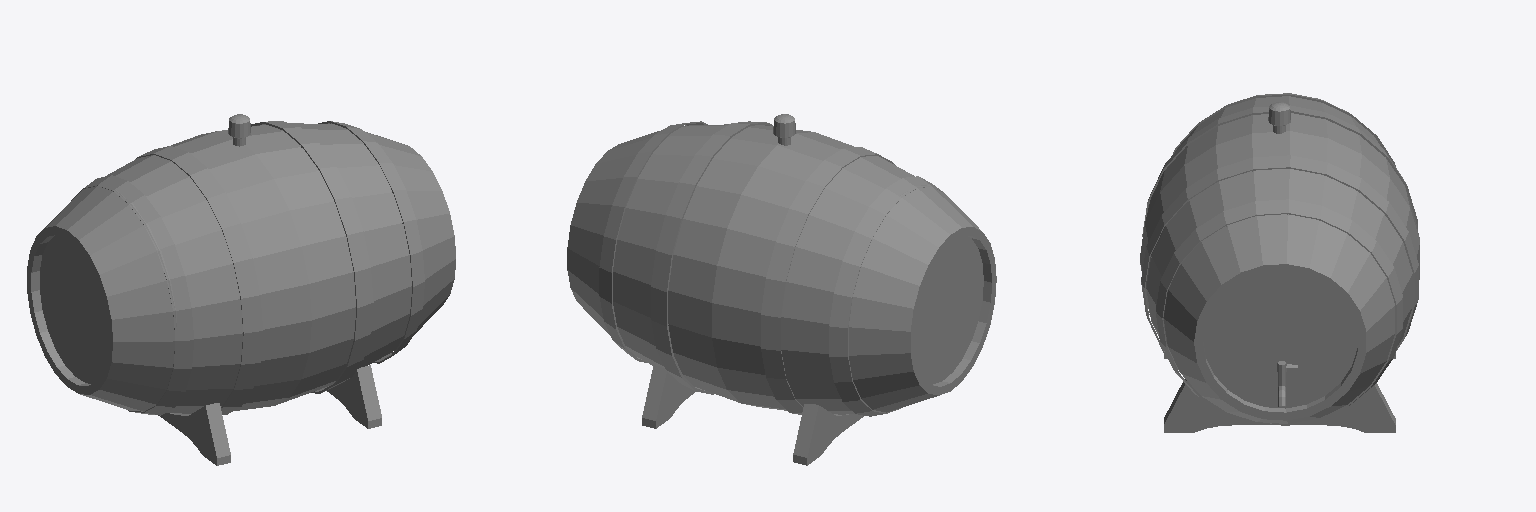
Rendered from Barrel_obj.obj.
The picture shows the model from 3 angles: view 1: azimuth 30°, elevation 25°; view 2: azimuth 150°, elevation 25°; view 3: azimuth 270°, elevation 25°; orthographic projection.
Parts seen in each view (by area): view 1: Barrel001; view 2: Barrel001; view 3: Barrel001.
Part boxes in pixels (x1,y1,x2,y2): Barrel001: (27,114,455,465); Barrel001: (567,114,996,465); Barrel001: (1140,93,1419,432).
Size of the model in its own units: 120 by 88.6 by 78.37.